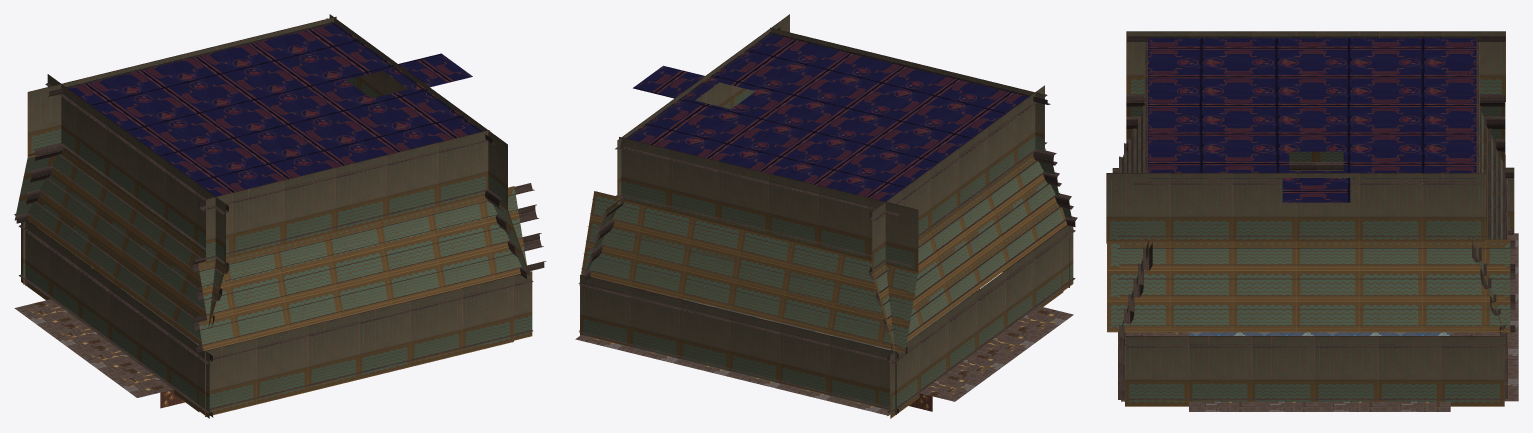
File: Layout_Floor04.glb
3 renders of one model, left to right at view 1: azimuth 30°, elevation 25°; view 2: azimuth 150°, elevation 25°; view 3: azimuth 270°, elevation 25°, orthographic. The views are drawn at different scales.
Parts seen in each view (by area): view 1: Layout_Floor04; view 2: Layout_Floor04; view 3: Layout_Floor04.
Part boxes in pixels (bbox=[...]): Layout_Floor04: bbox=[14, 14, 546, 418]; Layout_Floor04: bbox=[575, 14, 1077, 418]; Layout_Floor04: bbox=[1106, 31, 1518, 411].
Bounding box in the file's own units: 32.1 × 17.49 × 28.32.
Materials: 5 (5 with a texture image).
